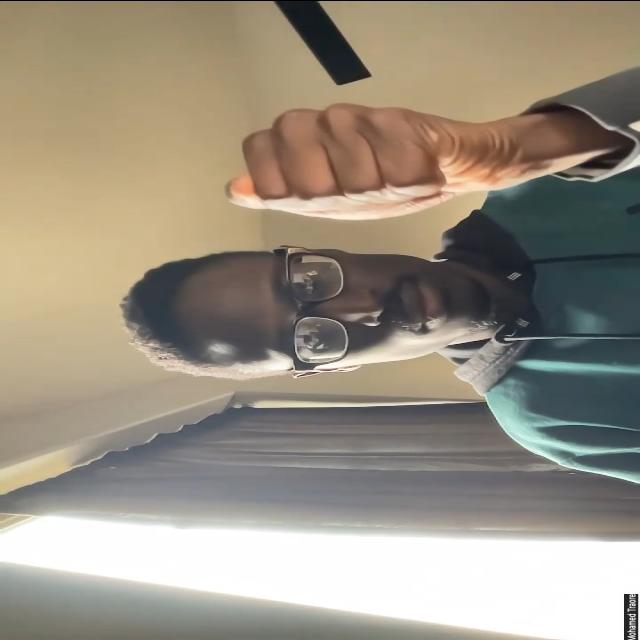Rock: (224, 102, 512, 222)
